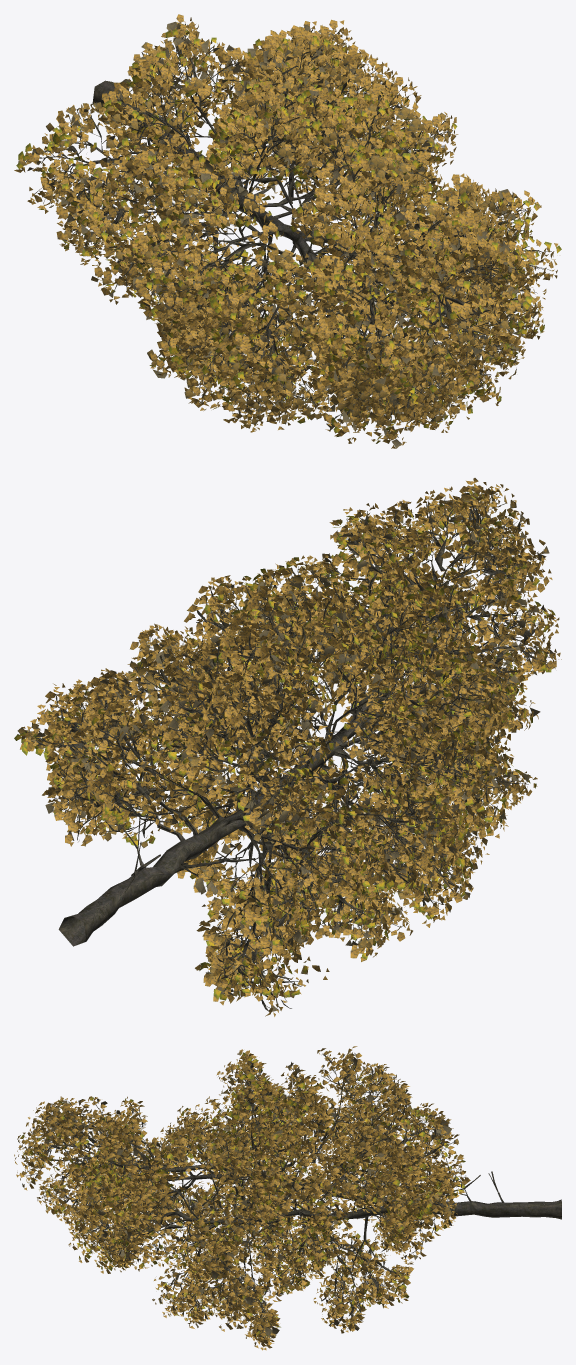
Rendered from Tree.glb.
The picture shows the model from 3 angles, top to bottom: view 1: azimuth 30°, elevation 25°; view 2: azimuth 150°, elevation 25°; view 3: azimuth 270°, elevation 25°; orthographic projection. The views are drawn at different scales.
Visible parts, largest first — view 1: Tree; view 2: Tree; view 3: Tree.
Part boxes in pixels (x1=…): Tree: x1=14, y1=14, x2=561, y2=448; Tree: x1=14, y1=478, x2=561, y2=1016; Tree: x1=14, y1=1046, x2=561, y2=1350.
Size of the model in its own units: 5.37 by 5.38 by 10.35.
Materials: 2 (2 with a texture image).
